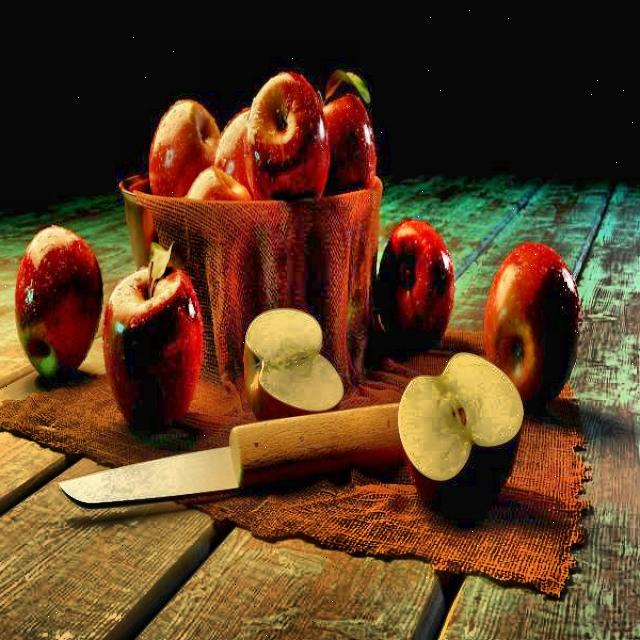knife: (56, 405, 486, 512)
